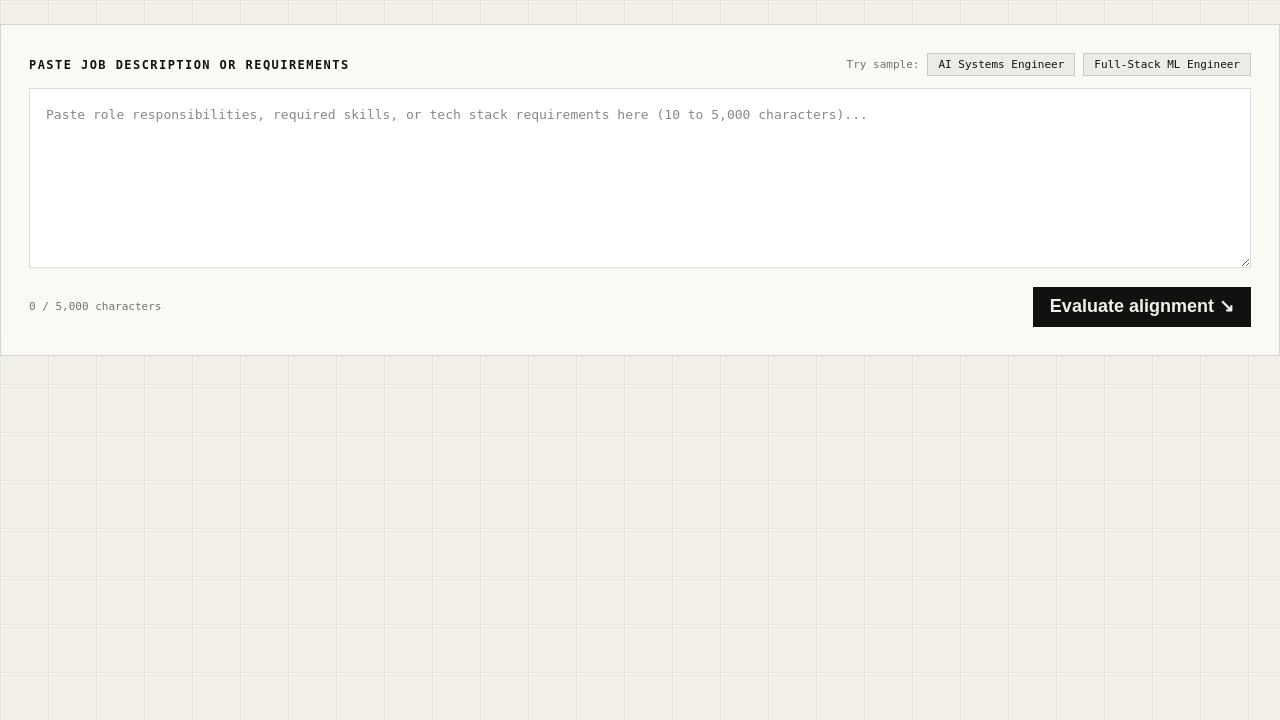
Test: JobMatcher component › renders error banner when analysis fails
The width and height of the screenshot is (1280, 720).
Replace the text in the text box labelled "Paste Job Description or Requirements" with "Senior AI Engineer with Autonomous Agents" at (640, 178), box left=29, top=88, right=1251, bottom=268
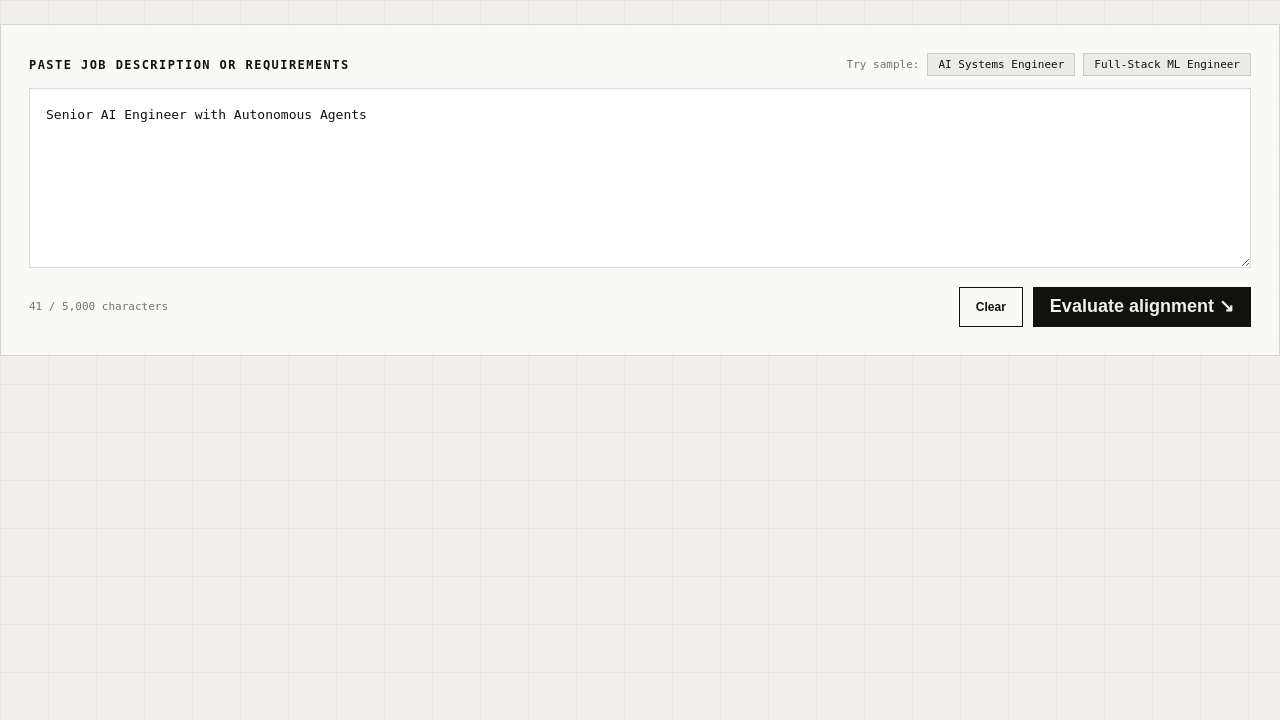
Click the button "Evaluate alignment ↘" at (1142, 307), box left=1033, top=287, right=1251, bottom=327
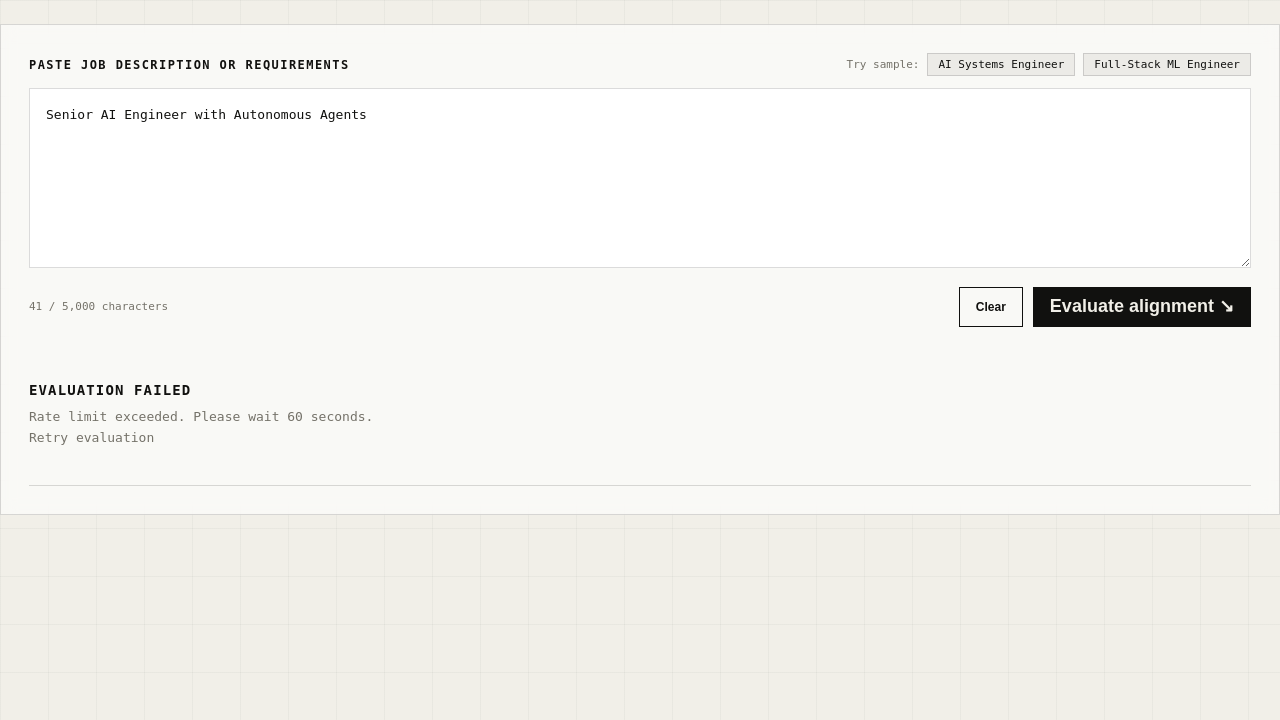
Now the message shows "Rate limit exceeded", box left=29, top=409, right=373, bottom=424
